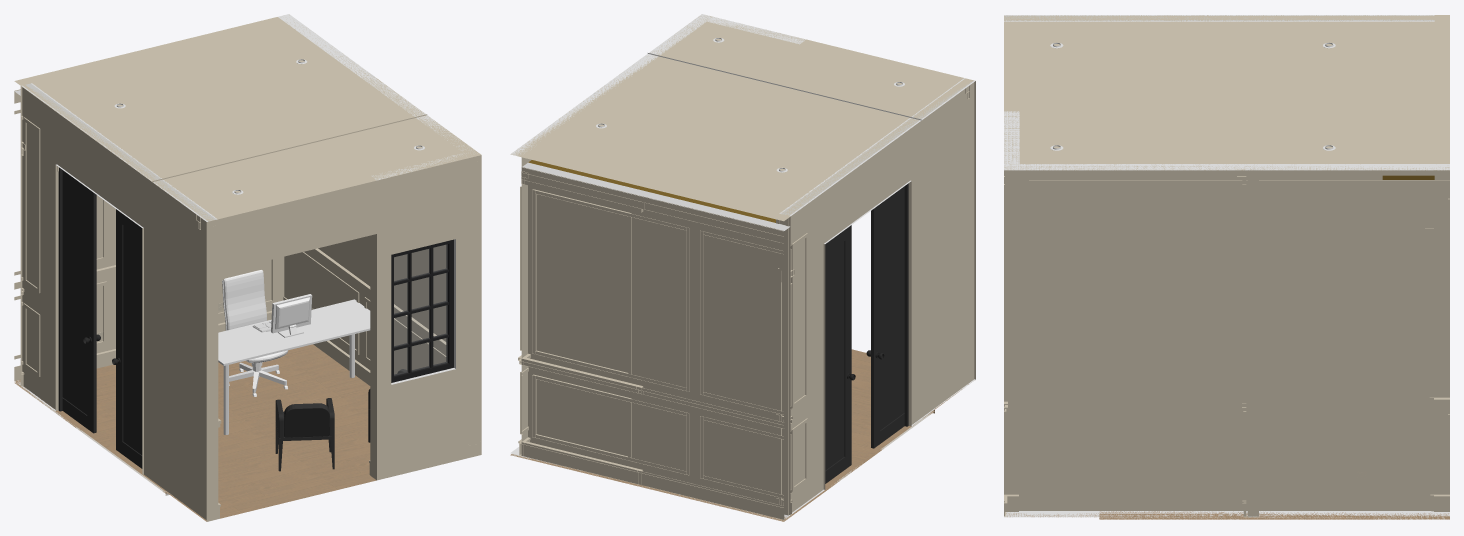
Rendered from office-east-b86a39ff502d.glb.
3 renders of one model, left to right at view 1: azimuth 30°, elevation 25°; view 2: azimuth 150°, elevation 25°; view 3: azimuth 270°, elevation 25°, orthographic. The views are drawn at different scales.
Parts seen in each view (by area): view 1: office-east-72f8f5982ac3dc36, office-east-2575515a05775d9e, office-east-000725c24cdd6469, office-east-7e39e4af19a71cea, office-east-6a1144f4e43410bb, office-east-3b0077416469e01b, office-east-dbd60ee5c3733ed6, office-east-e2162daab8de086b, office-east-46643c5d76352396, office-east-c374268555806af8, office-east-ff4536de08267b29, office-east-19647d6da46c2b80 (+10 smaller); view 2: office-east-19647d6da46c2b80, office-east-72f8f5982ac3dc36, office-east-2575515a05775d9e, office-east-7e39e4af19a71cea, office-east-dbd60ee5c3733ed6, office-east-6a1144f4e43410bb, office-east-7b51444cc162b982, office-east-3b0077416469e01b, office-east-69ebde2cee50514f, office-east-99102bcd8e097289, office-east-63e99ea94d258f3b, office-east-a4f53721ed14ae9b (+16 smaller); view 3: office-east-6a1144f4e43410bb, office-east-2575515a05775d9e, office-east-dbd60ee5c3733ed6, office-east-2c29ddcb8551cb02, office-east-e54d813e60c9e7c4, office-east-000725c24cdd6469, office-east-0e637d2be41161fb, office-east-19647d6da46c2b80, office-east-dad9e1d33ae8d77b, office-east-3b0077416469e01b, office-east-09d9be919fb5379f, office-east-0811b6b476584948 (+5 smaller).
Part boxes in pixels (x1,y1,x2,y2): office-east-72f8f5982ac3dc36: (20,83,218,521); office-east-2575515a05775d9e: (14,15,427,181); office-east-000725c24cdd6469: (370,153,470,480); office-east-7e39e4af19a71cea: (58,167,142,468); office-east-6a1144f4e43410bb: (278,14,481,457); office-east-3b0077416469e01b: (14,344,370,493); office-east-dbd60ee5c3733ed6: (153,115,481,220); office-east-e2162daab8de086b: (218,270,370,434); office-east-46643c5d76352396: (213,177,376,272); office-east-c374268555806af8: (166,442,376,521); office-east-ff4536de08267b29: (394,245,447,375); office-east-19647d6da46c2b80: (15,90,284,384); office-east-19647d6da46c2b80: (522,162,790,518); office-east-72f8f5982ac3dc36: (779,78,975,515); office-east-2575515a05775d9e: (511,55,911,221); office-east-7e39e4af19a71cea: (825,183,908,483); office-east-dbd60ee5c3733ed6: (647,15,964,120); office-east-6a1144f4e43410bb: (510,14,712,455); office-east-7b51444cc162b982: (521,167,784,243); office-east-3b0077416469e01b: (510,389,934,521); office-east-69ebde2cee50514f: (532,189,689,391); office-east-99102bcd8e097289: (521,442,784,519); office-east-63e99ea94d258f3b: (522,441,642,484); office-east-a4f53721ed14ae9b: (532,375,689,475); office-east-6a1144f4e43410bb: (1004,164,1449,517); office-east-2575515a05775d9e: (1130,15,1449,170); office-east-dbd60ee5c3733ed6: (1004,15,1130,170); office-east-2c29ddcb8551cb02: (1019,494,1431,510); office-east-e54d813e60c9e7c4: (1029,180,1449,194); office-east-000725c24cdd6469: (1004,111,1019,494); office-east-0e637d2be41161fb: (1247,169,1258,517); office-east-19647d6da46c2b80: (1434,175,1449,494); office-east-dad9e1d33ae8d77b: (1029,397,1431,404); office-east-3b0077416469e01b: (1099,511,1449,519); office-east-09d9be919fb5379f: (1005,414,1246,485); office-east-0811b6b476584948: (1004,21,1435,25).
Bounding box in the file's own units: 2.88 × 3.05 × 3.49.
19 materials, 4 textured.
